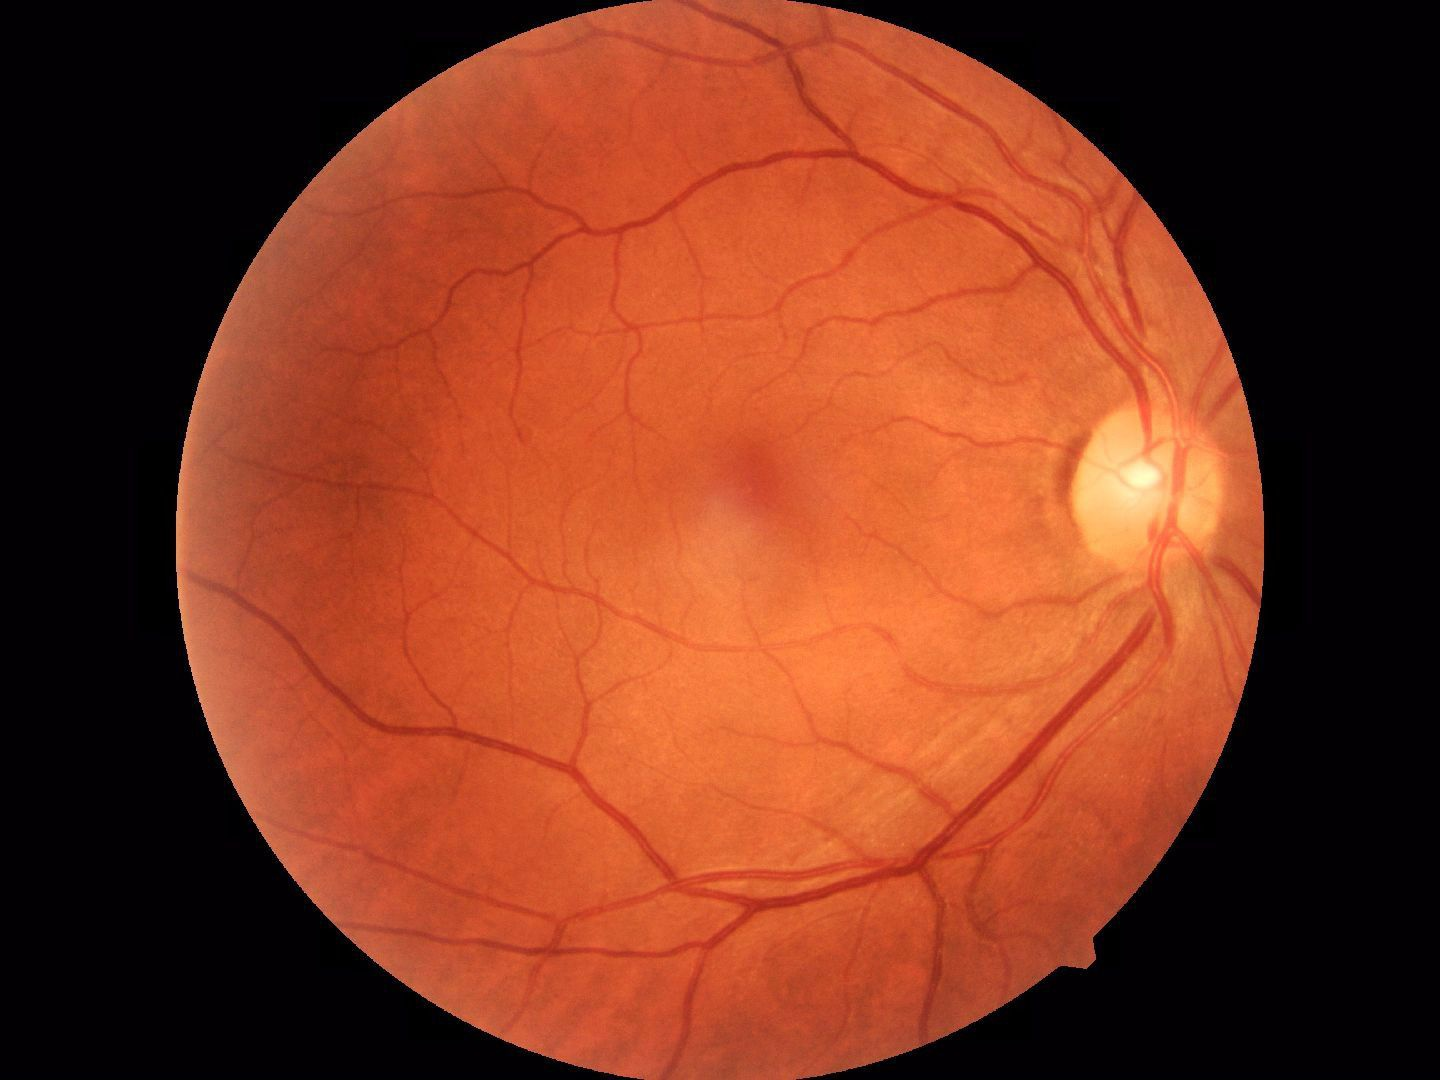Hemorrhages: (698, 425, 844, 562)
Optic-Disc: (1066, 398, 1226, 590)
Venules: (718, 765, 1022, 939), (896, 120, 1125, 324)
